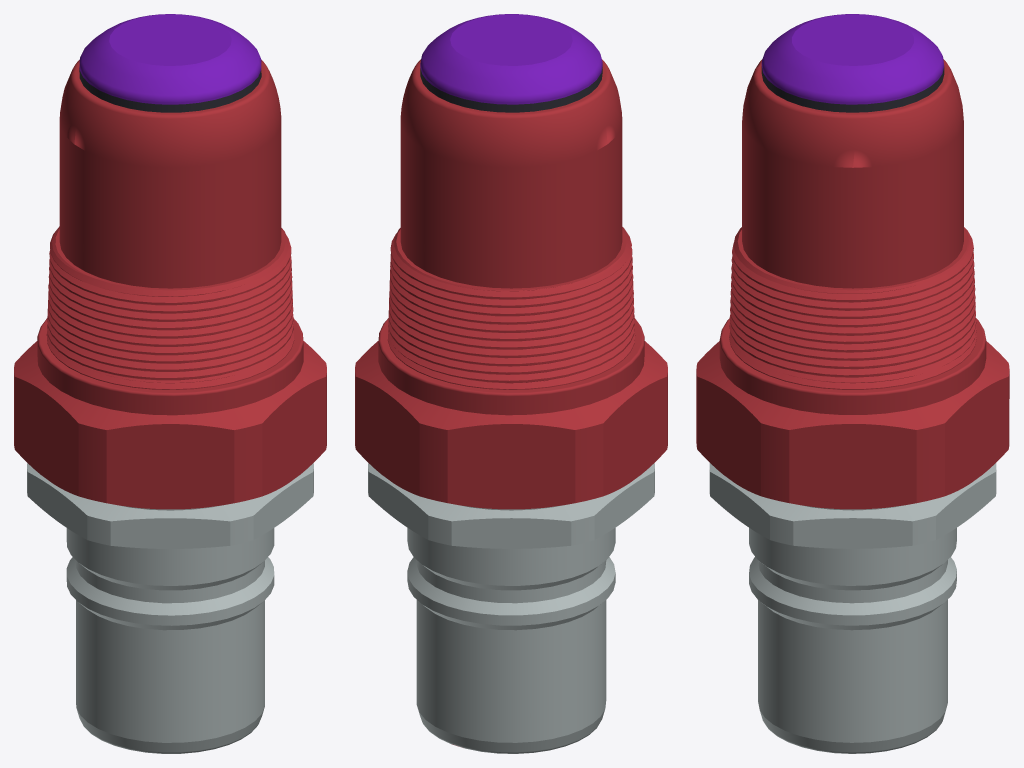
The picture shows the model from 3 angles, left to right: view 1: azimuth 30°, elevation 25°; view 2: azimuth 150°, elevation 25°; view 3: azimuth 270°, elevation 25°; orthographic projection.
Visible parts, largest first — view 1: R800CV_defeature; view 2: R800CV_defeature; view 3: R800CV_defeature.
Boxes of the visible parts, left/top/right/bottom form: R800CV_defeature: left=14, top=14, right=326, bottom=753; R800CV_defeature: left=355, top=14, right=667, bottom=753; R800CV_defeature: left=696, top=14, right=1009, bottom=753.
Bounding box in the file's own units: 0.0696 × 0.1818 × 0.0762.
